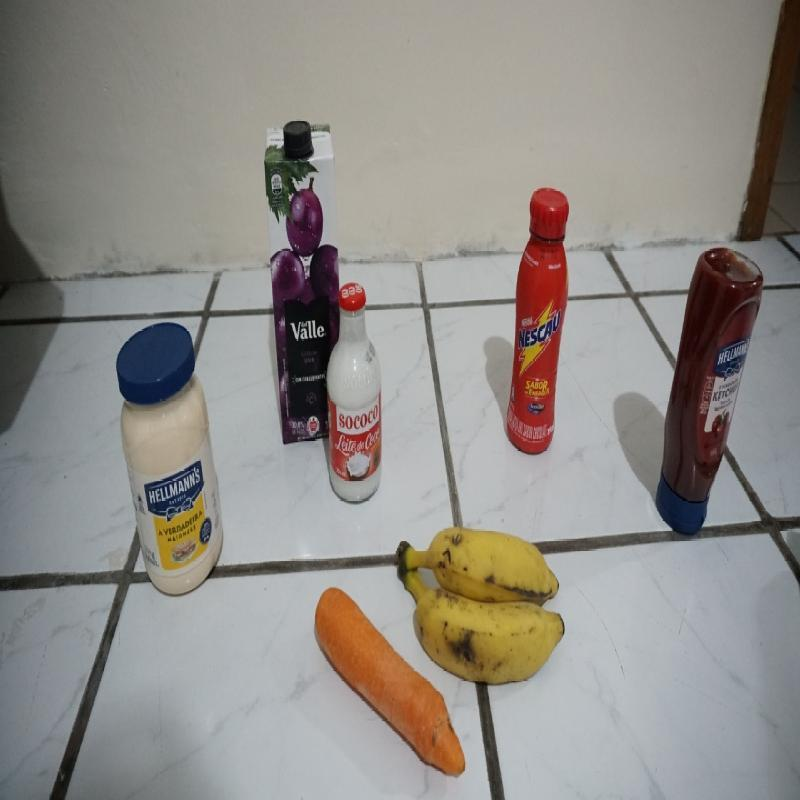Banana: (416, 500, 579, 681)
Carrot: (313, 574, 416, 758)
Chocolate Milk: (503, 186, 565, 453)
Coconut Milk: (323, 285, 382, 503)
Ketchup: (655, 239, 762, 546)
Mayonnaise: (119, 321, 224, 593)
